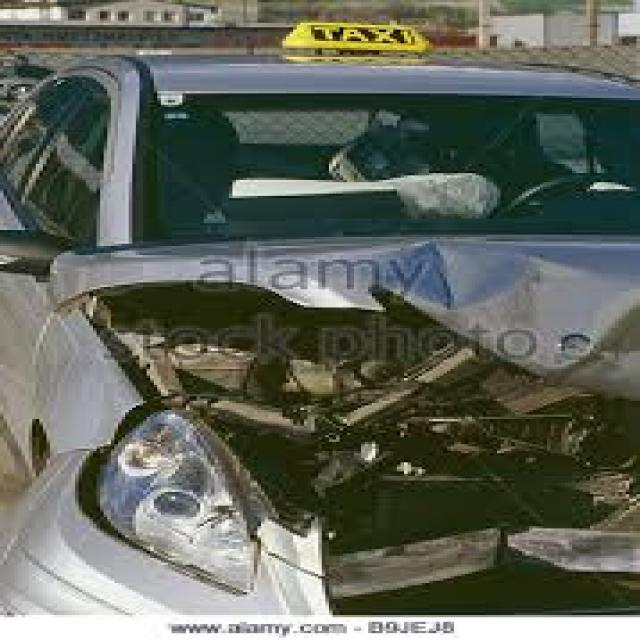moderate: (44, 254, 640, 611)
